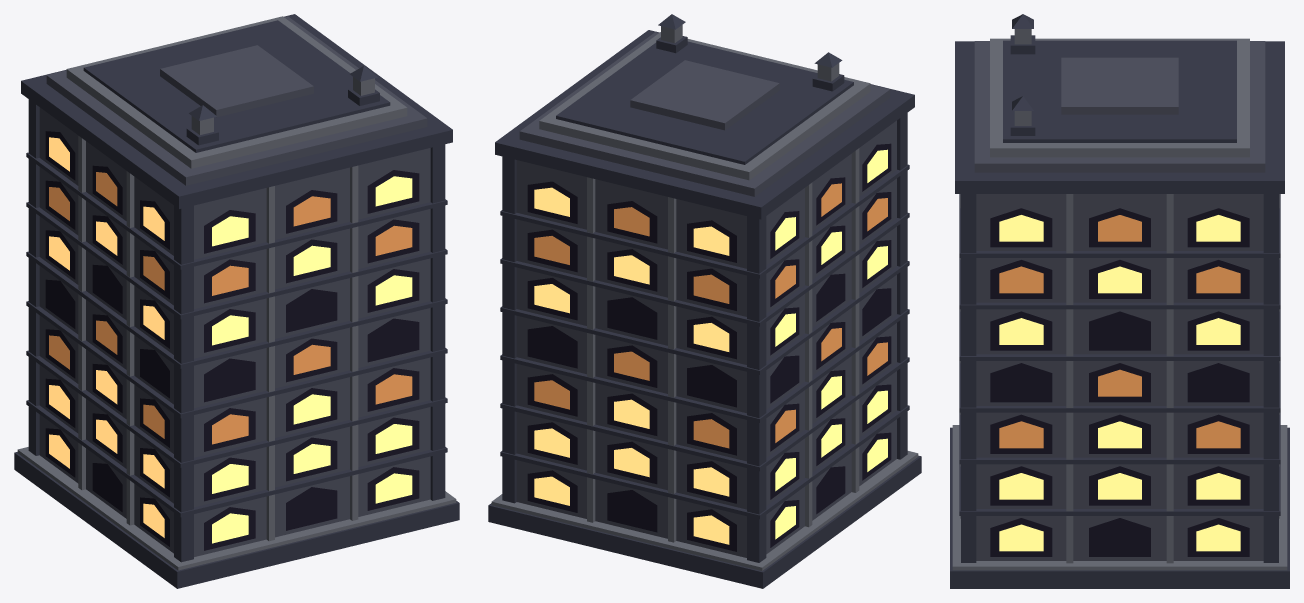
File: gotham_voxel_skyscraper.glb
3 views of the same model, side by side, from view 1: azimuth 30°, elevation 25°; view 2: azimuth 150°, elevation 25°; view 3: azimuth 270°, elevation 25° (orthographic). The views are drawn at different scales.
Visible parts, largest first — view 1: Gotham Voxel Skyscraper | 4x4x6m, window_f05_front_c03, window_f07_front_c03, window_f03_front_c02, window_f05_front_c02, window_f07_front_c02, window_f01_front_c02, window_f01_front_c03, window_f03_front_c03, window_f04_front_c02, window_f06_front_c02, window_f06_front_c03 (+10 smaller); view 2: Gotham Voxel Skyscraper | 4x4x6m, window_f03_back_c01, window_f01_back_c01, window_f02_back_c01, window_f06_back_c01, window_f07_back_c01, window_f04_back_c01, window_f05_back_c01, window_f01_back_c03, window_f03_back_c02, window_f05_back_c02, window_f07_back_c03 (+10 smaller); view 3: Gotham Voxel Skyscraper | 4x4x6m, window_f03_right_c01, window_f03_right_c03, window_f06_right_c01, window_f06_right_c03, window_f01_right_c01, window_f01_right_c03, window_f04_right_c01, window_f04_right_c03, window_f03_right_c02, window_f07_right_c01, window_f07_right_c03 (+10 smaller).
Boxes of the visible parts, x1,y1,x2,y2 form: Gotham Voxel Skyscraper | 4x4x6m: [14, 14, 459, 588]; window_f05_front_c03: [375, 275, 412, 305]; window_f07_front_c03: [375, 176, 412, 206]; window_f03_front_c02: [293, 394, 330, 424]; window_f05_front_c02: [293, 295, 330, 325]; window_f07_front_c02: [293, 196, 330, 226]; window_f01_front_c02: [293, 493, 330, 523]; window_f01_front_c03: [375, 473, 412, 503]; window_f03_front_c03: [375, 374, 412, 404]; window_f04_front_c02: [293, 344, 330, 374]; window_f06_front_c02: [293, 245, 330, 275]; window_f06_front_c03: [375, 225, 412, 255]; Gotham Voxel Skyscraper | 4x4x6m: [488, 14, 921, 588]; window_f03_back_c01: [693, 419, 729, 448]; window_f01_back_c01: [693, 515, 729, 544]; window_f02_back_c01: [693, 467, 729, 496]; window_f06_back_c01: [693, 274, 729, 303]; window_f07_back_c01: [693, 226, 729, 255]; window_f04_back_c01: [693, 371, 729, 400]; window_f05_back_c01: [693, 323, 729, 351]; window_f01_back_c03: [534, 476, 569, 505]; window_f03_back_c02: [614, 399, 649, 428]; window_f05_back_c02: [614, 303, 649, 332]; window_f07_back_c03: [534, 187, 569, 216]; Gotham Voxel Skyscraper | 4x4x6m: [950, 14, 1289, 588]; window_f03_right_c01: [999, 421, 1043, 448]; window_f03_right_c03: [1196, 421, 1240, 448]; window_f06_right_c01: [999, 266, 1043, 293]; window_f06_right_c03: [1196, 266, 1240, 293]; window_f01_right_c01: [999, 524, 1043, 551]; window_f01_right_c03: [1196, 524, 1240, 551]; window_f04_right_c01: [999, 369, 1043, 396]; window_f04_right_c03: [1196, 369, 1240, 396]; window_f03_right_c02: [1098, 421, 1141, 448]; window_f07_right_c01: [999, 215, 1043, 241]; window_f07_right_c03: [1196, 215, 1240, 241].
Size of the model in its own units: 4 by 6 by 4.
